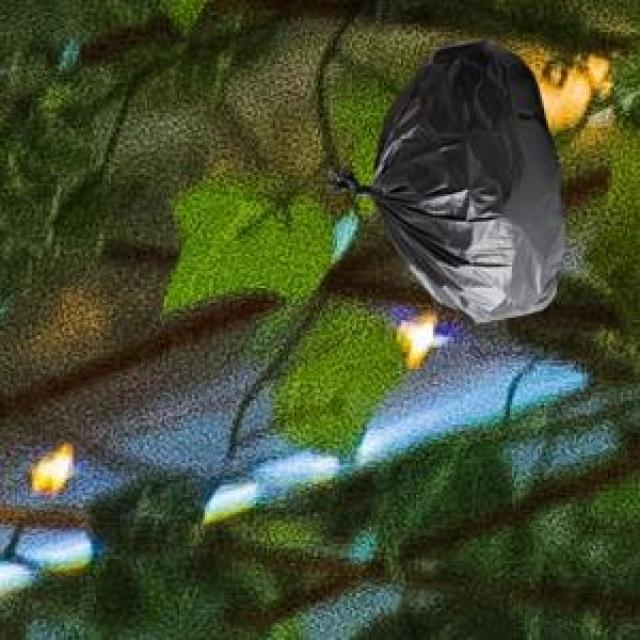Trashbag: (324, 38, 574, 331)
